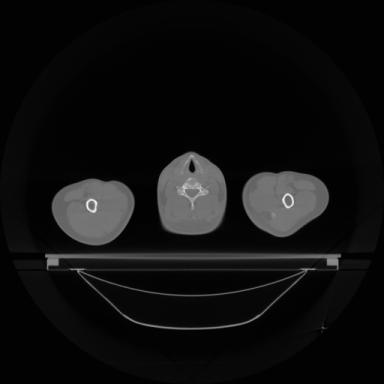body: (242, 171, 328, 237), (158, 152, 226, 235), (52, 178, 134, 245)
cord: (178, 176, 206, 204)
